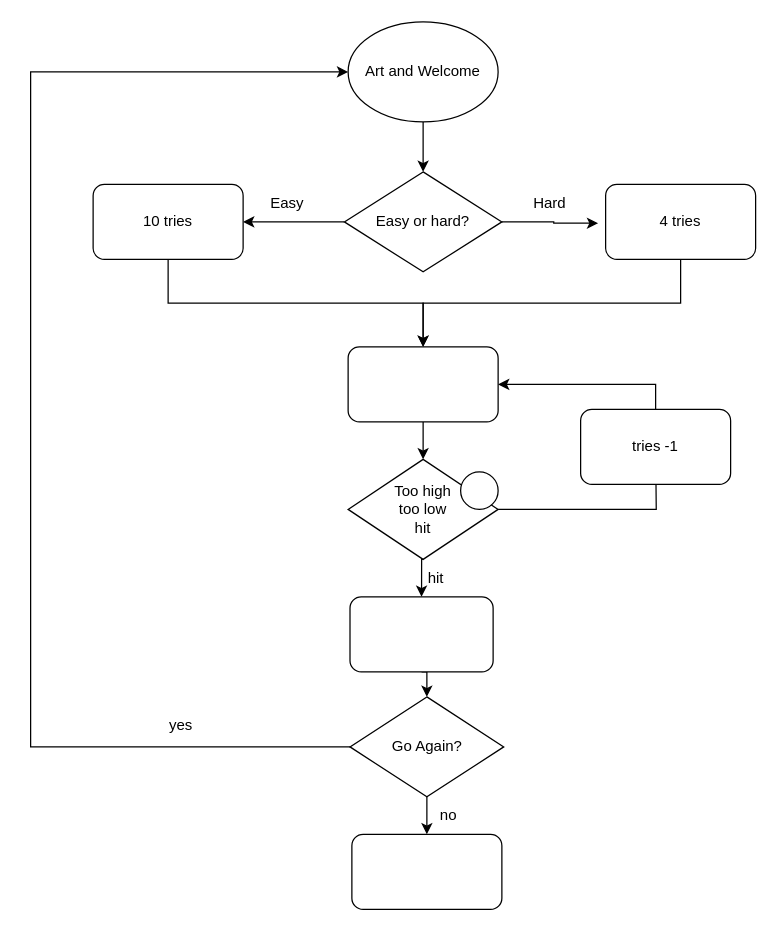
Image size: 778x931. Some labels were removed from this diagram. The shapes that lost their labels are listed below. From the top down, each one's box as (x1, y1, x2, y2) in pixels, then its label:
(347, 346, 498, 422): Guess
(459, 471, 498, 509): def
(349, 596, 493, 672): Congrats!
(351, 833, 502, 909): Goodbye!
